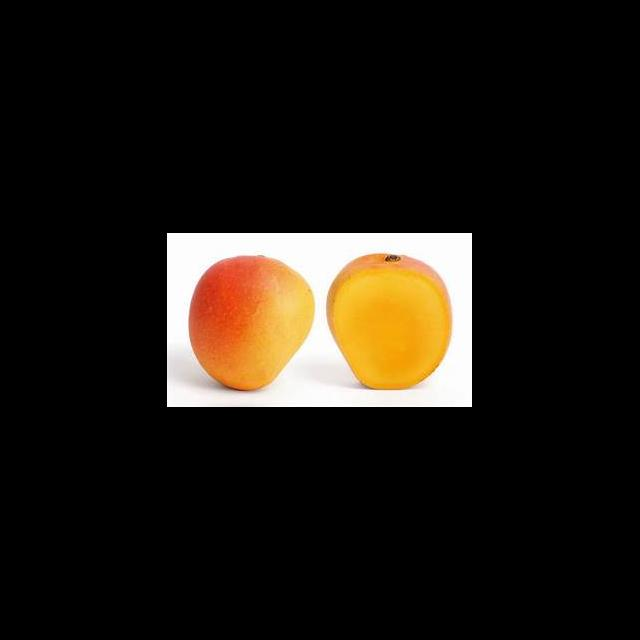mango: (326, 253, 454, 390), (188, 256, 316, 392)
